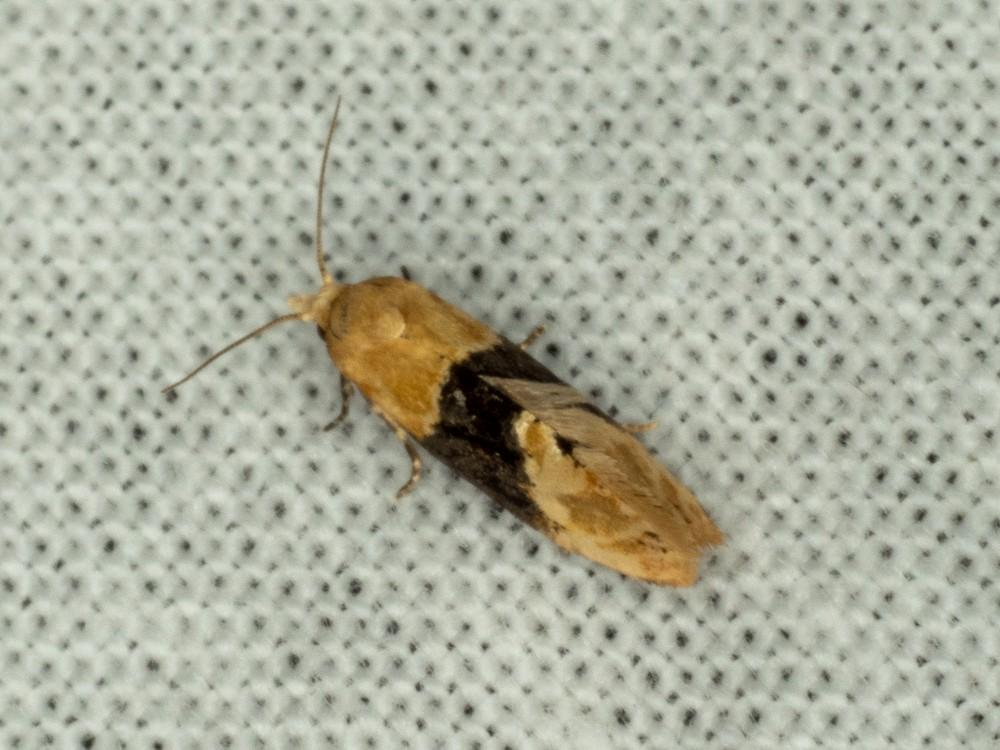Eupoecilia Ambiguella: (158, 93, 729, 591)
